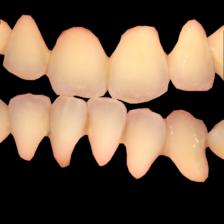cavity: (118, 121, 128, 142), (83, 111, 92, 134), (43, 51, 51, 74), (105, 61, 111, 89), (46, 111, 51, 135), (165, 55, 173, 66)
tooth: (110, 22, 168, 102), (51, 21, 108, 99), (166, 108, 208, 183), (171, 19, 214, 92), (8, 92, 50, 161), (1, 16, 47, 79), (127, 105, 162, 180), (88, 96, 124, 167), (53, 95, 88, 167)
